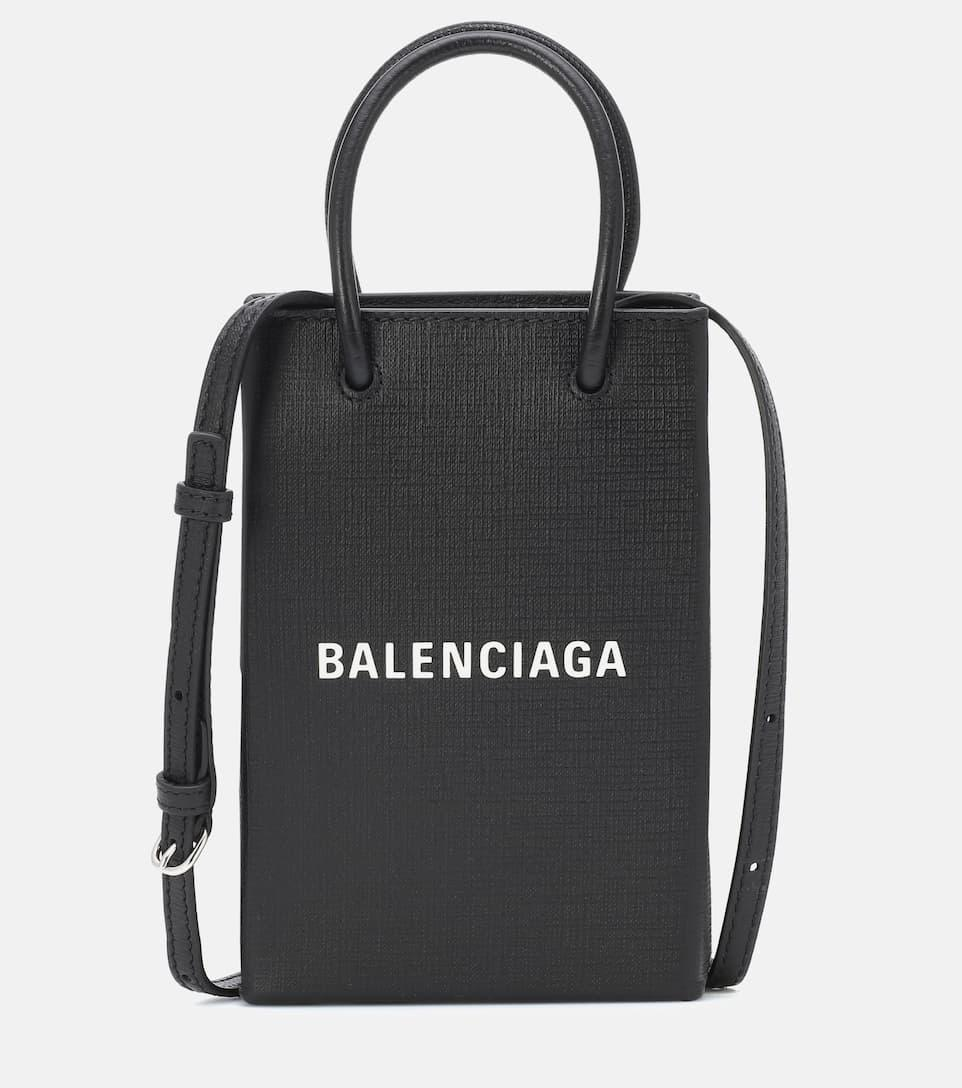BALENCIAGA: (319, 641, 627, 679)
